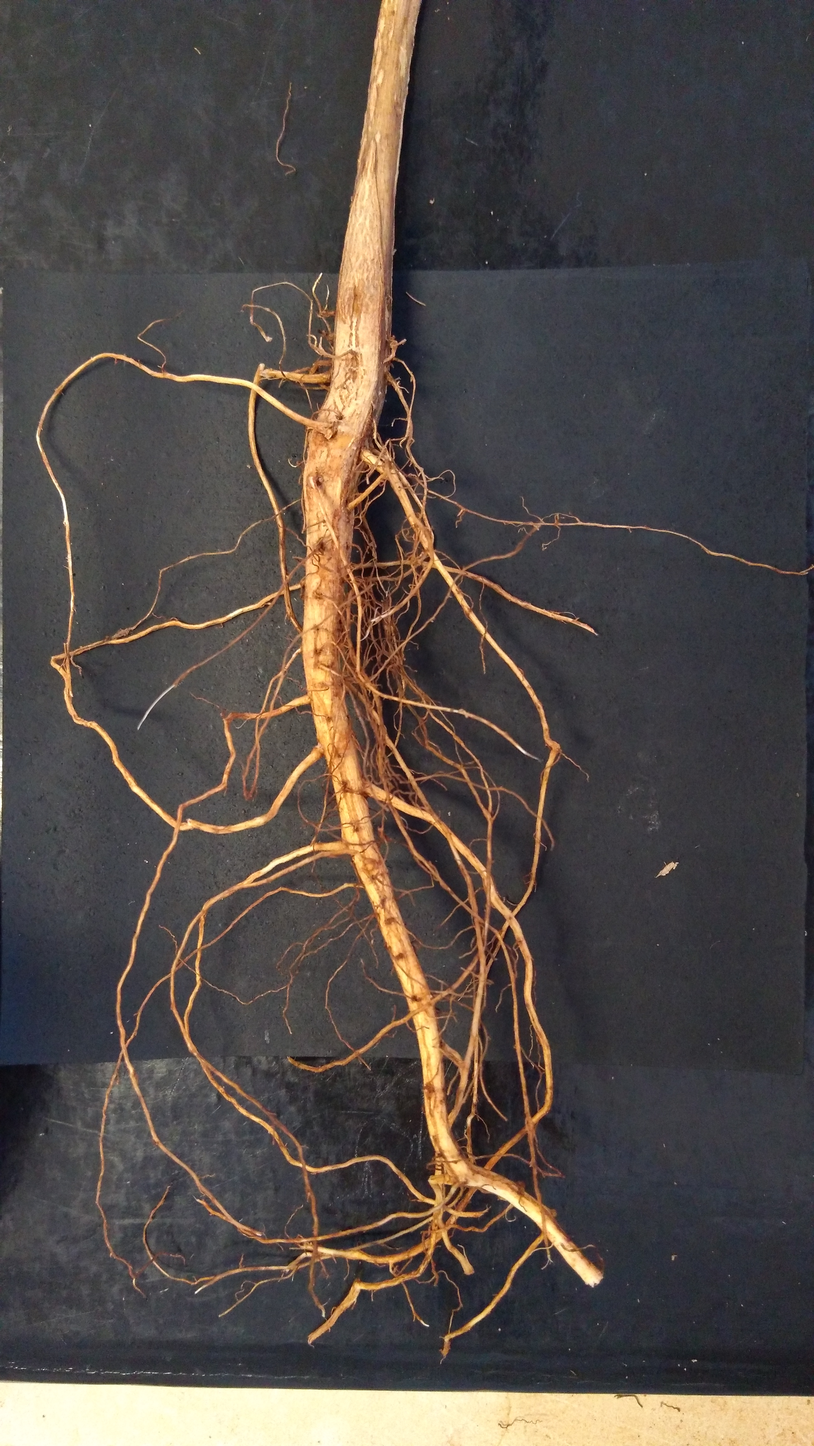nodule: (343, 662, 362, 684), (514, 1181, 526, 1190), (324, 429, 333, 440), (328, 331, 334, 347), (389, 339, 398, 349), (550, 1208, 557, 1217), (414, 511, 421, 519), (318, 477, 324, 483)
